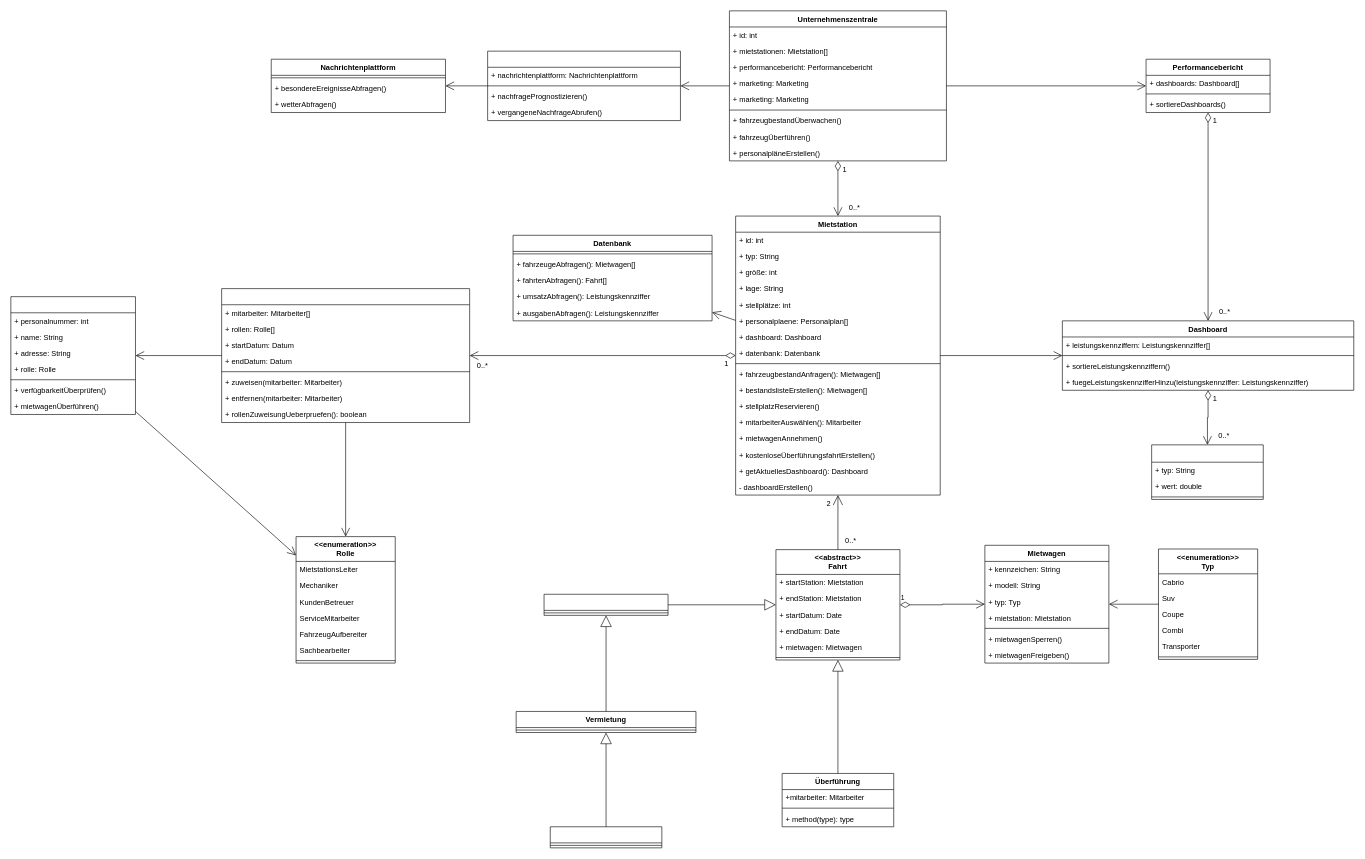
Some shapes in this 1365 by 859 pixel diagram are drawn without their labels. Here are the shapes that lost their labels. From the top down, the box of each, then its label:
(487, 51, 680, 121): Marketing
(10, 296, 135, 414): Mitarbeiter
(221, 288, 470, 423): Personalplan
(1151, 444, 1263, 499): Leistungskennziffern
(543, 594, 668, 615): Reservierung
(550, 826, 662, 848): KundenÜberführung
